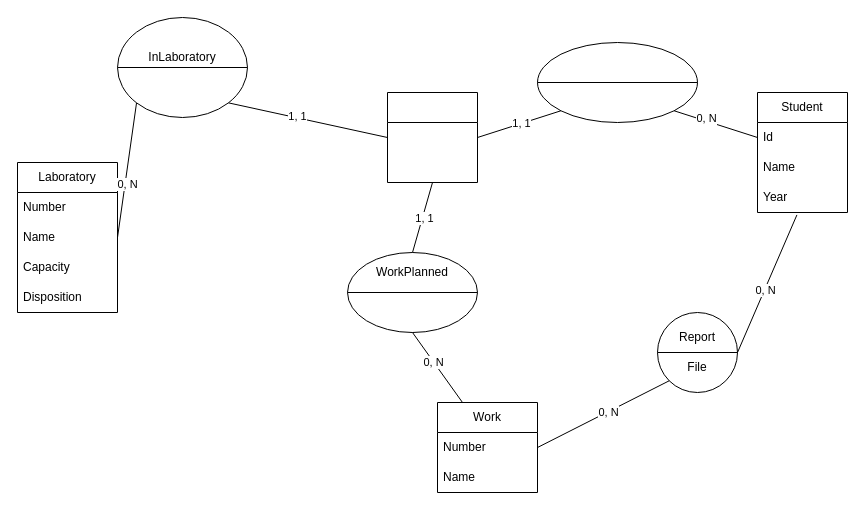
Image size: 865x510. Some labels were removed from this diagram. Each missing label, with the centre of its shape:
"Plan" goes at (x=432, y=137).
"Plan OfStudent" goes at (x=617, y=82).
